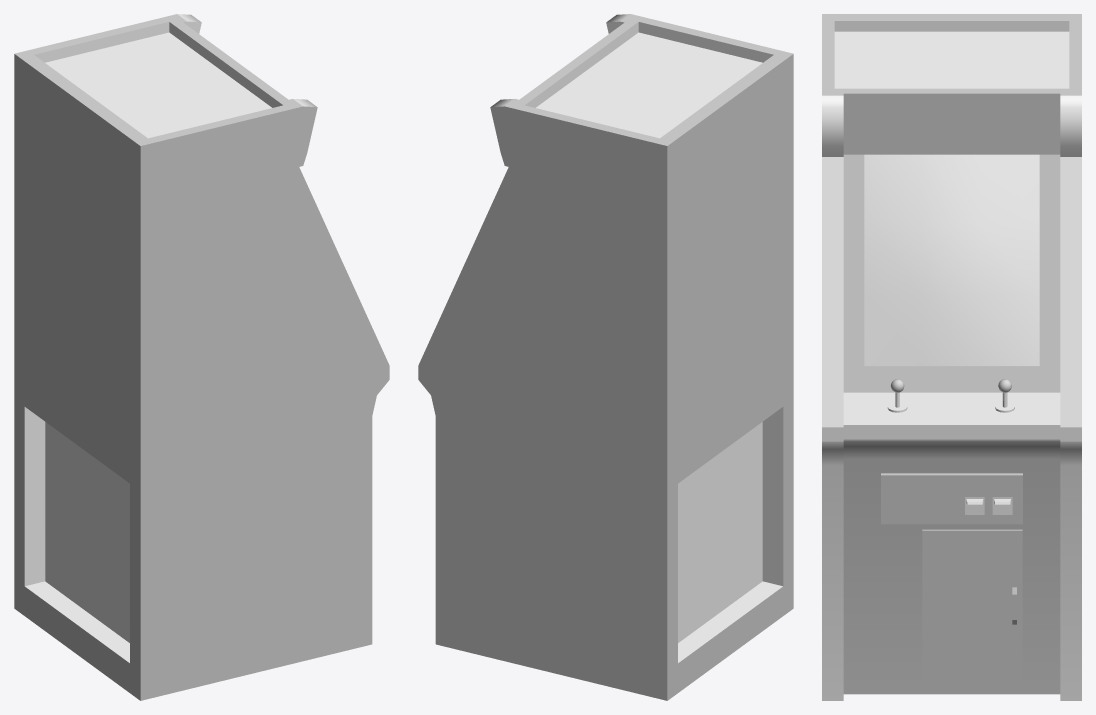
Rendered from Arcade Playset.glb.
3 views of the same model, side by side, from view 1: azimuth 30°, elevation 25°; view 2: azimuth 150°, elevation 25°; view 3: azimuth 270°, elevation 25° (orthographic). The views are drawn at different scales.
Parts seen in each view (by area): view 1: Cube.022; view 2: Cube.022; view 3: Cube.022.
Part boxes in pixels (x1,y1,x2,y2): Cube.022: [14, 14, 389, 700]; Cube.022: [418, 14, 793, 700]; Cube.022: [822, 14, 1081, 700].
Bounding box in the file's own units: 0.7077 × 1.51 × 0.6211.
5 materials, 1 textured.
